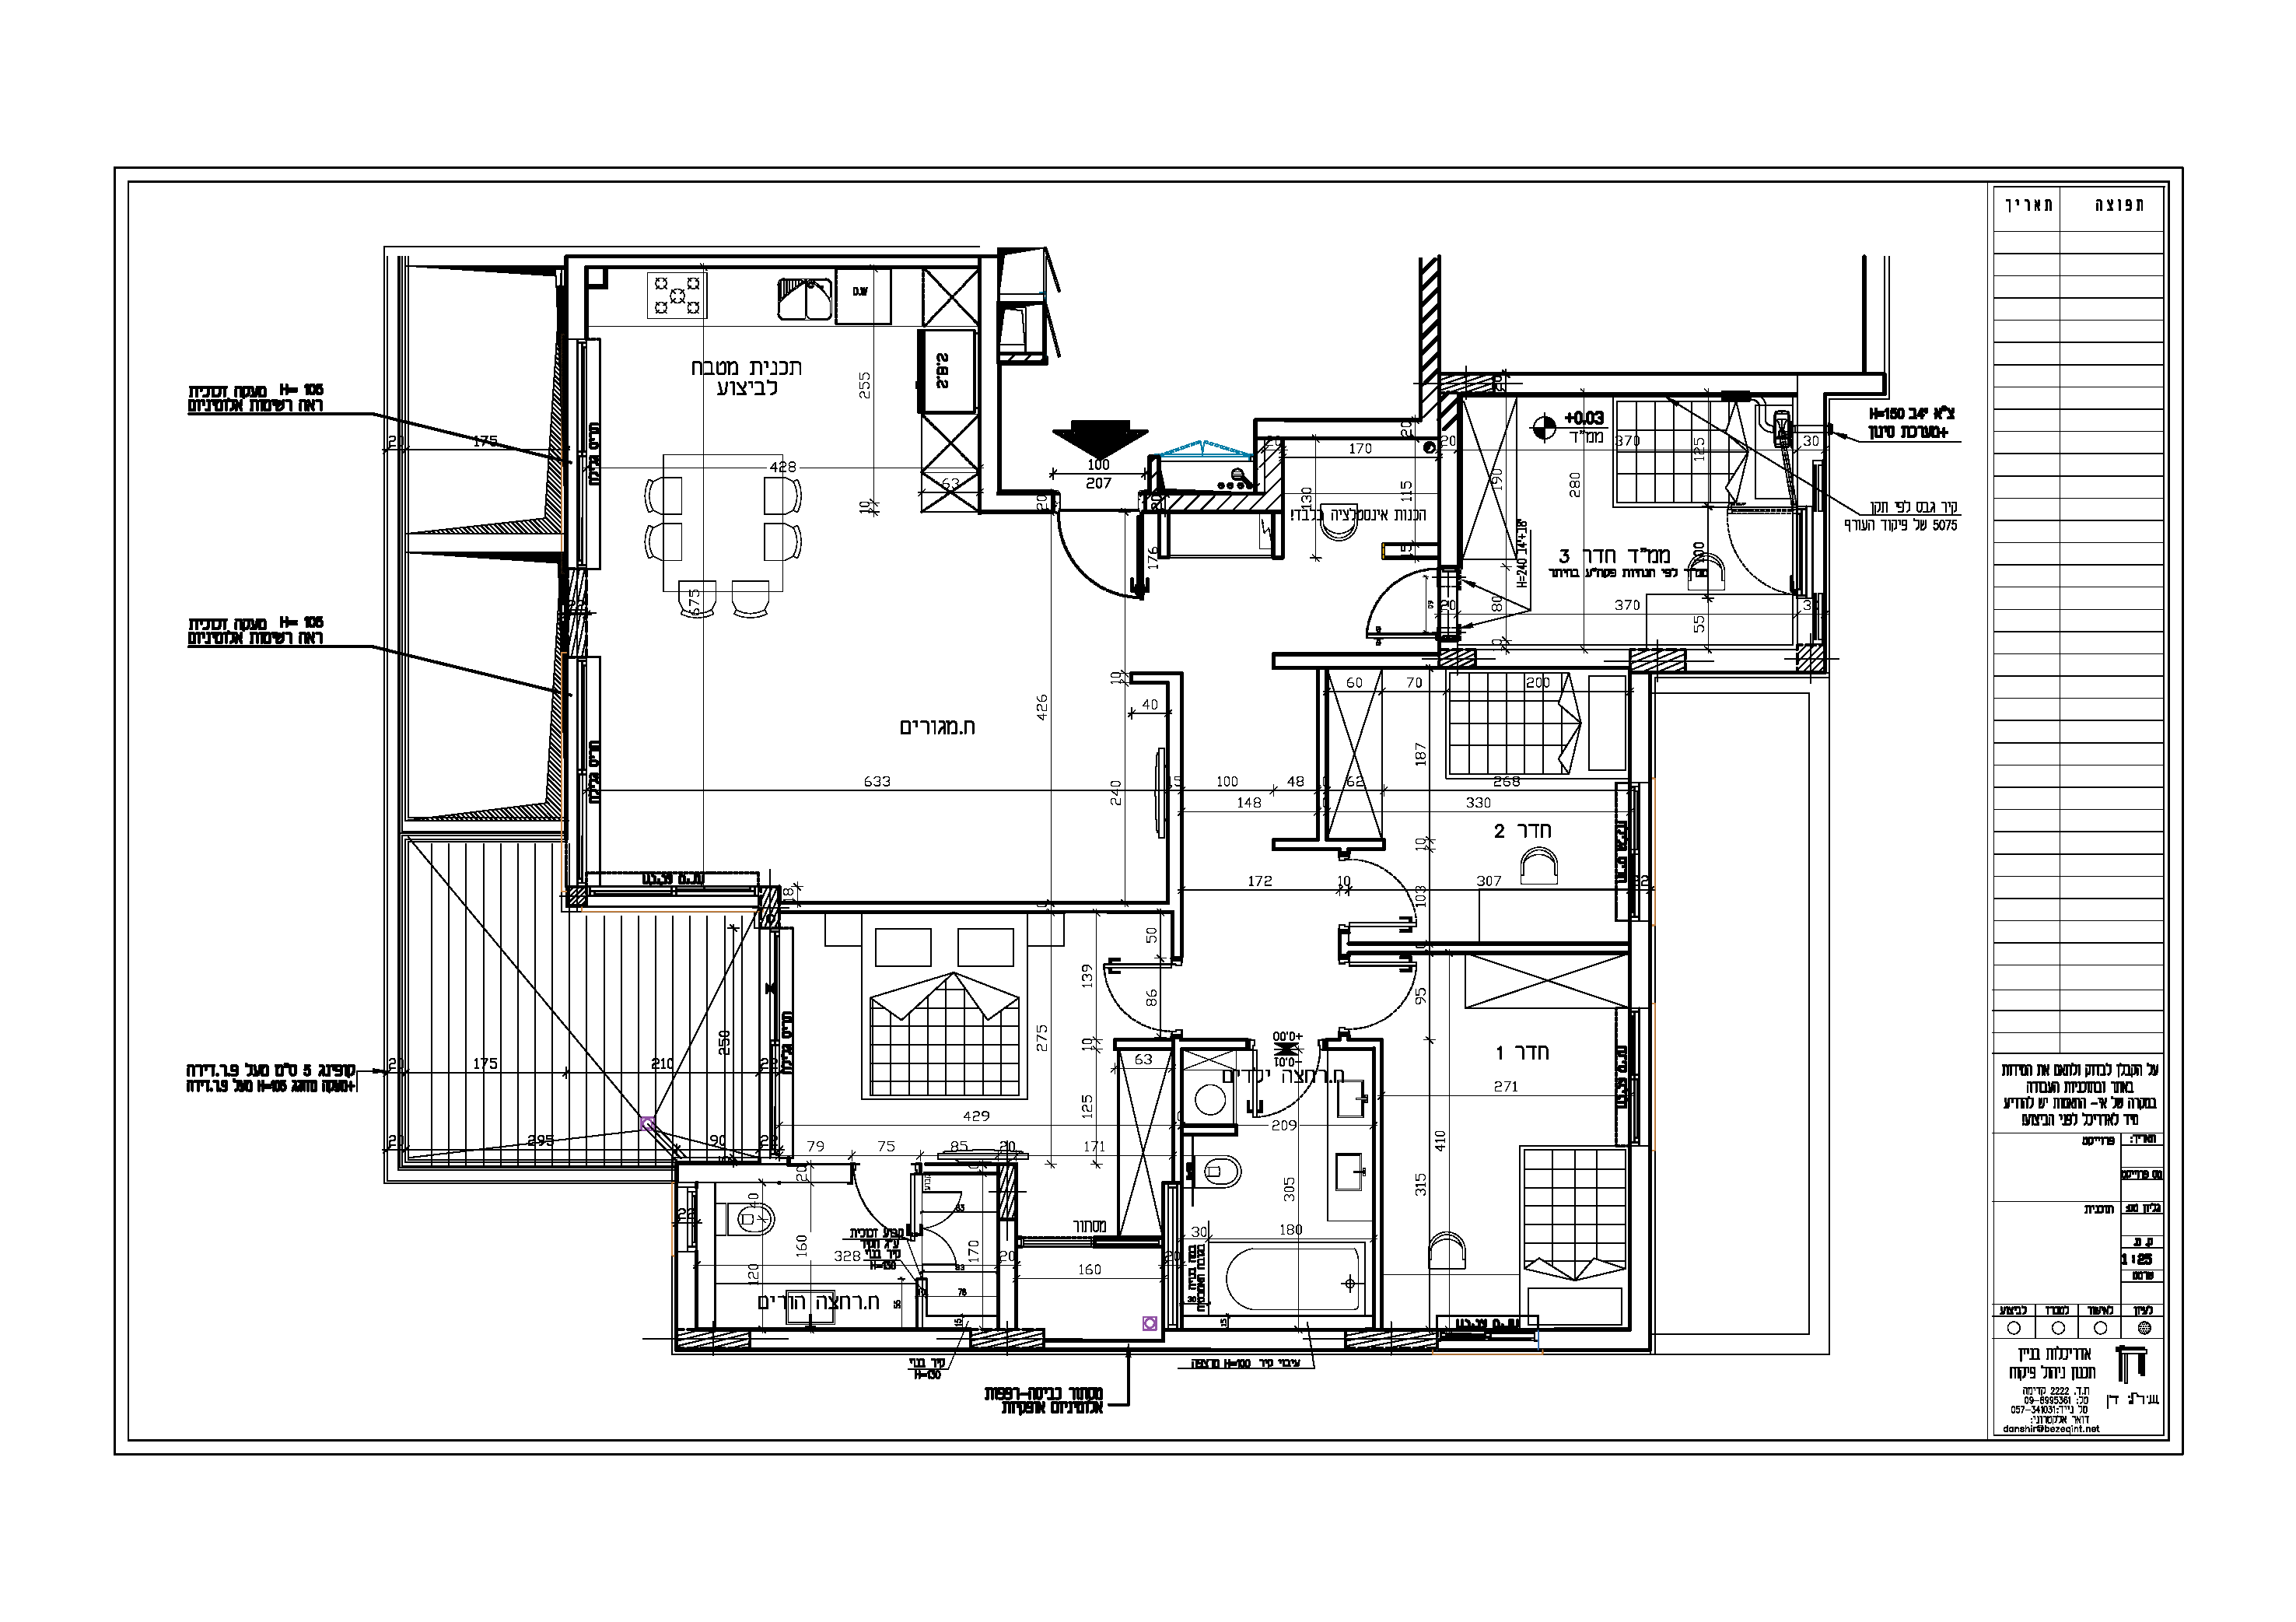door: (1053, 518, 1144, 606), (1350, 958, 1420, 1036), (1360, 565, 1427, 646), (1350, 855, 1417, 927)
